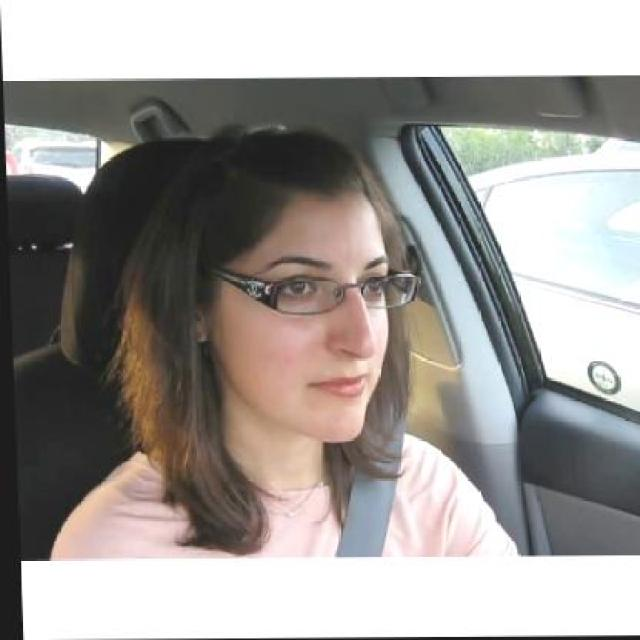attentif: (181, 130, 390, 445)
